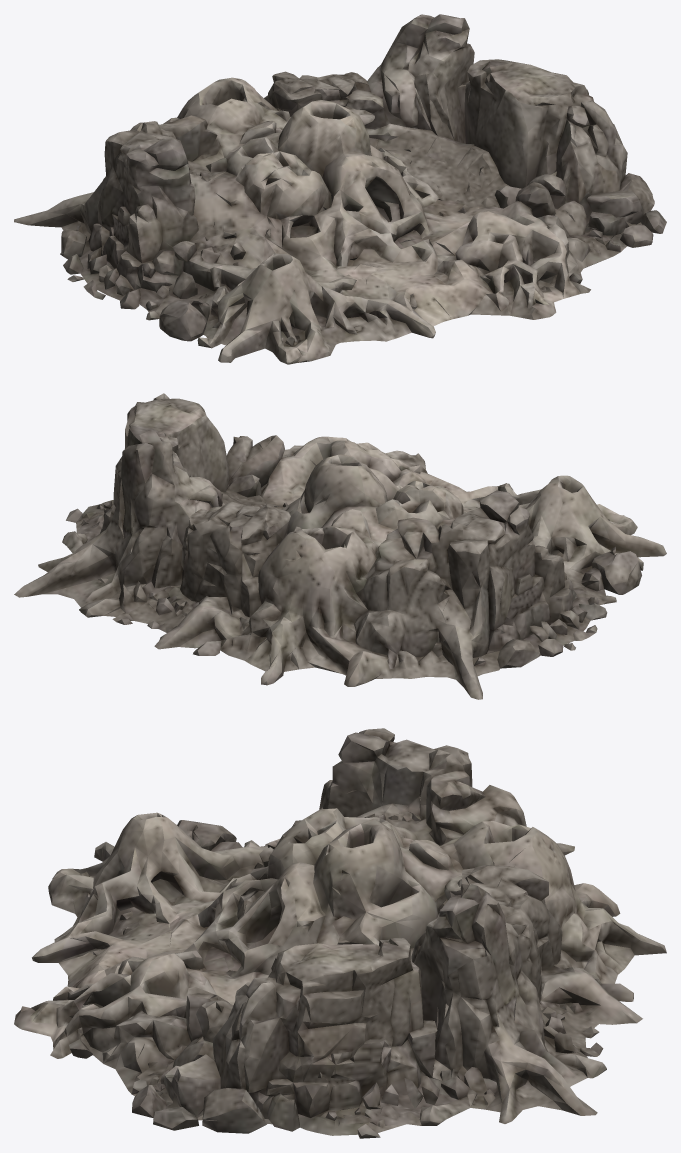
Rendered from zone.prey.l1.glb.
The picture shows the model from 3 angles, top to bottom: view 1: azimuth 30°, elevation 25°; view 2: azimuth 150°, elevation 25°; view 3: azimuth 270°, elevation 25°; orthographic projection. The views are drawn at different scales.
Visible parts, largest first — view 1: body; view 2: body; view 3: body.
Part boxes in pixels (<box>): body: <box>14,14,666,364</box>; body: <box>14,393,666,699</box>; body: <box>14,728,666,1138</box>.
Size of the model in its own units: 1.6 by 0.4241 by 1.45.
1 material, 1 textured.
